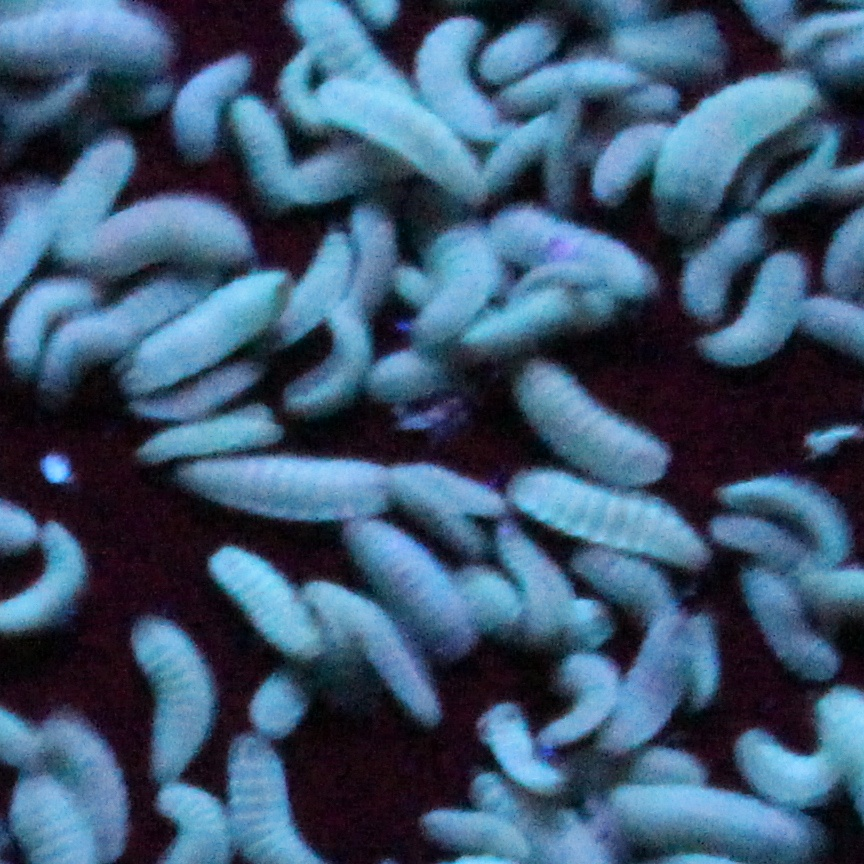larve: (520, 337, 674, 480), (107, 606, 211, 784), (183, 454, 388, 521), (203, 543, 314, 650), (451, 702, 566, 798), (412, 196, 486, 341), (725, 568, 817, 682), (666, 83, 740, 223), (322, 65, 433, 158), (94, 212, 261, 270), (338, 528, 457, 599), (733, 718, 821, 806), (521, 528, 580, 656), (500, 202, 621, 262), (750, 249, 814, 360), (506, 490, 694, 526), (721, 470, 861, 517), (36, 519, 93, 634), (50, 324, 122, 414), (397, 454, 504, 513), (251, 658, 325, 738), (237, 92, 286, 208), (180, 47, 227, 166), (602, 111, 658, 207), (675, 237, 738, 318), (181, 294, 257, 361), (74, 123, 133, 208), (475, 10, 550, 74), (321, 304, 362, 420), (458, 563, 516, 644), (136, 416, 277, 449), (127, 377, 277, 408), (713, 517, 807, 562), (365, 357, 468, 397), (756, 153, 815, 220), (351, 199, 390, 294), (488, 296, 578, 336), (492, 119, 541, 192), (692, 606, 724, 710), (307, 216, 347, 299), (586, 557, 674, 592), (433, 50, 469, 120)
